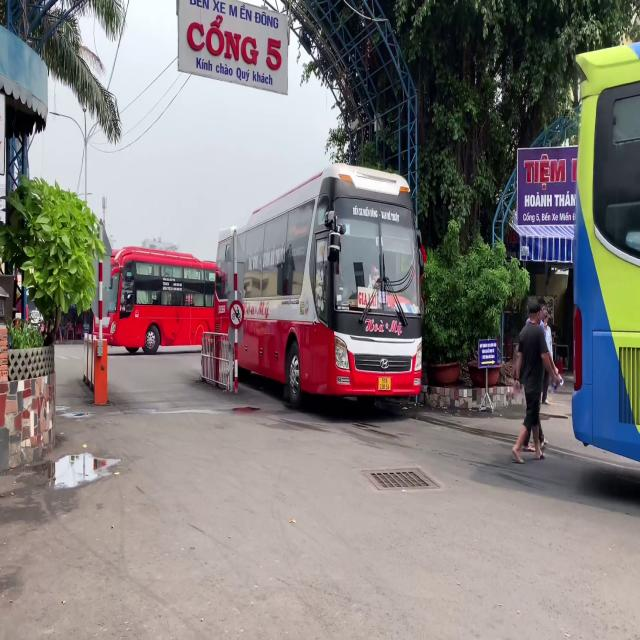bien_vang: (378, 378, 392, 391)
